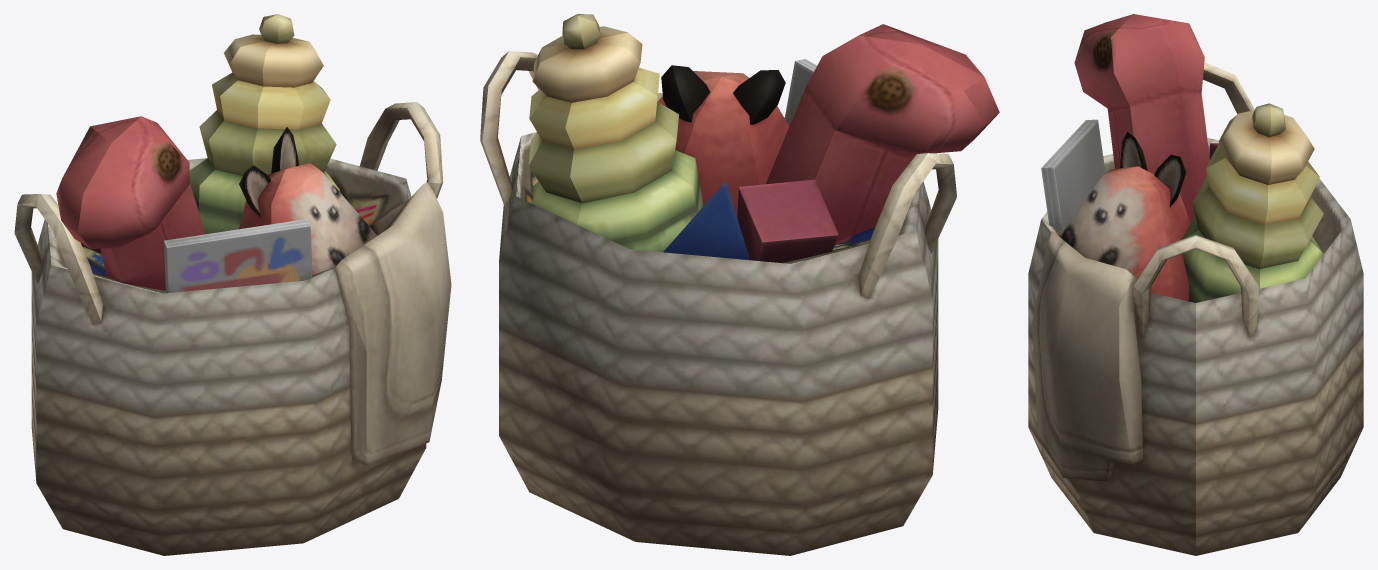
The model's file is cestaJuguetes.fbx.
3 views of the same model, side by side, from view 1: azimuth 30°, elevation 25°; view 2: azimuth 150°, elevation 25°; view 3: azimuth 270°, elevation 25° (orthographic). The views are drawn at different scales.
Visible parts, largest first — view 1: s4studio_mesh_1; view 2: s4studio_mesh_1; view 3: s4studio_mesh_1.
Boxes of the visible parts, x1,y1,x2,y2 form: s4studio_mesh_1: (14, 14, 451, 555); s4studio_mesh_1: (480, 14, 999, 555); s4studio_mesh_1: (1028, 14, 1363, 555).
Bounding box in the file's own units: 58.35 × 59.39 × 43.88.
Materials: 1 (1 with a texture image).
